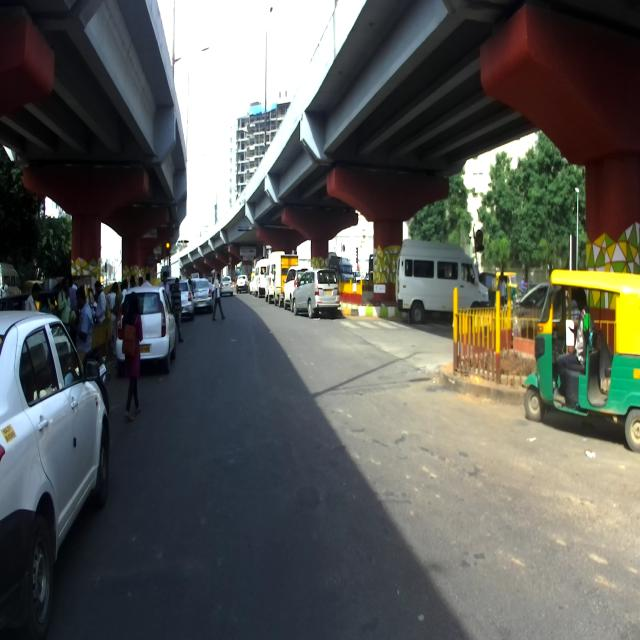auto ahead at: (525, 264, 640, 454)
car ahead at: (0, 297, 113, 640)
person ahead at: (117, 287, 149, 426)
